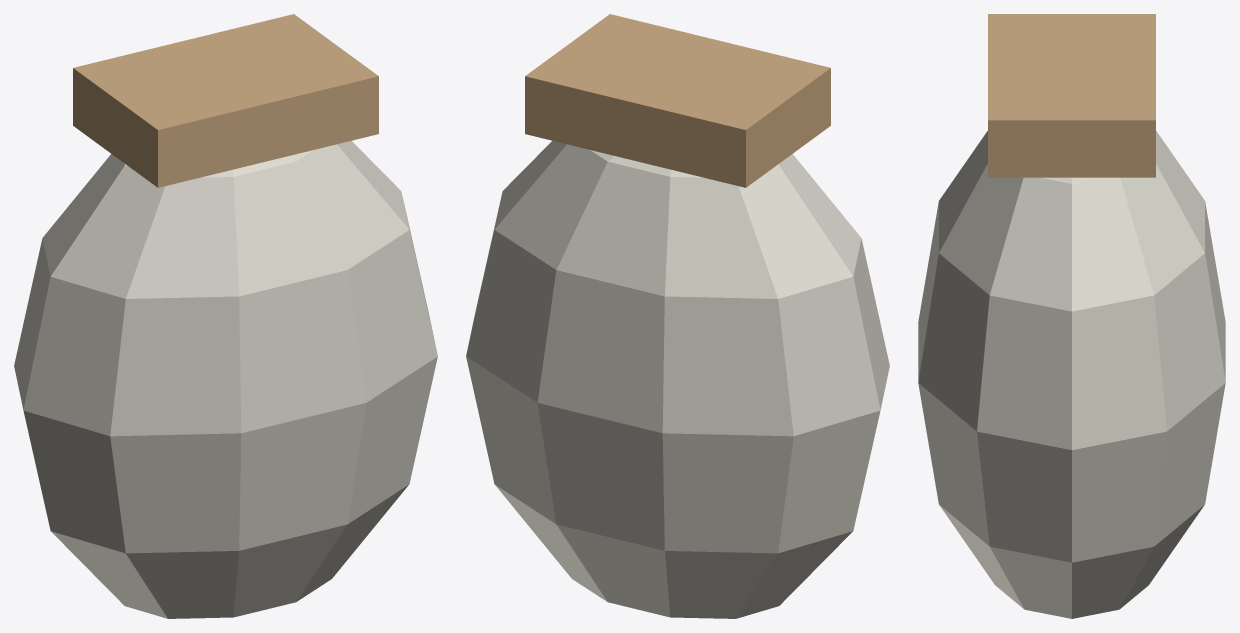
File: supermarket-operations-rice-sack-c1e7b54e__26857.glb
3 views of the same model, side by side, from view 1: azimuth 30°, elevation 25°; view 2: azimuth 150°, elevation 25°; view 3: azimuth 270°, elevation 25° (orthographic).
Visible parts, largest first — view 1: rice-sack; view 2: rice-sack; view 3: rice-sack.
Part boxes in pixels (left/top/right/bottom): rice-sack: left=14, top=14, right=437, bottom=618; rice-sack: left=466, top=14, right=889, bottom=618; rice-sack: left=918, top=14, right=1225, bottom=618.
Size of the model in its own units: 0.22 by 0.282 by 0.1465.
